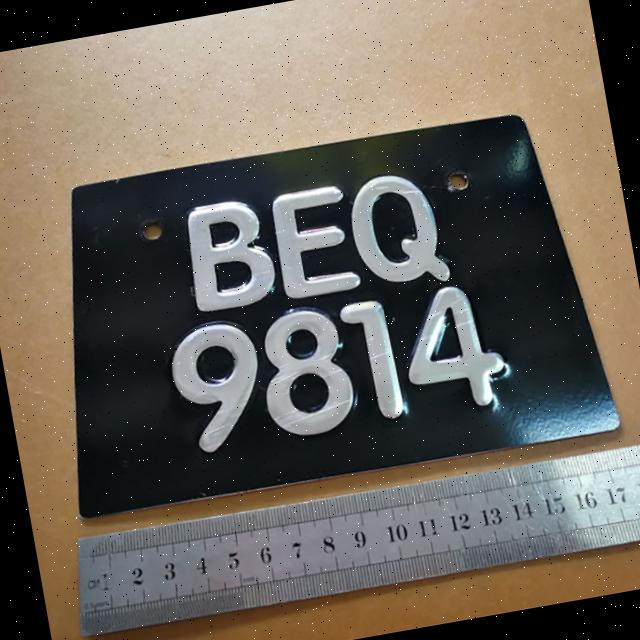License_Plate: (57, 95, 582, 523)
